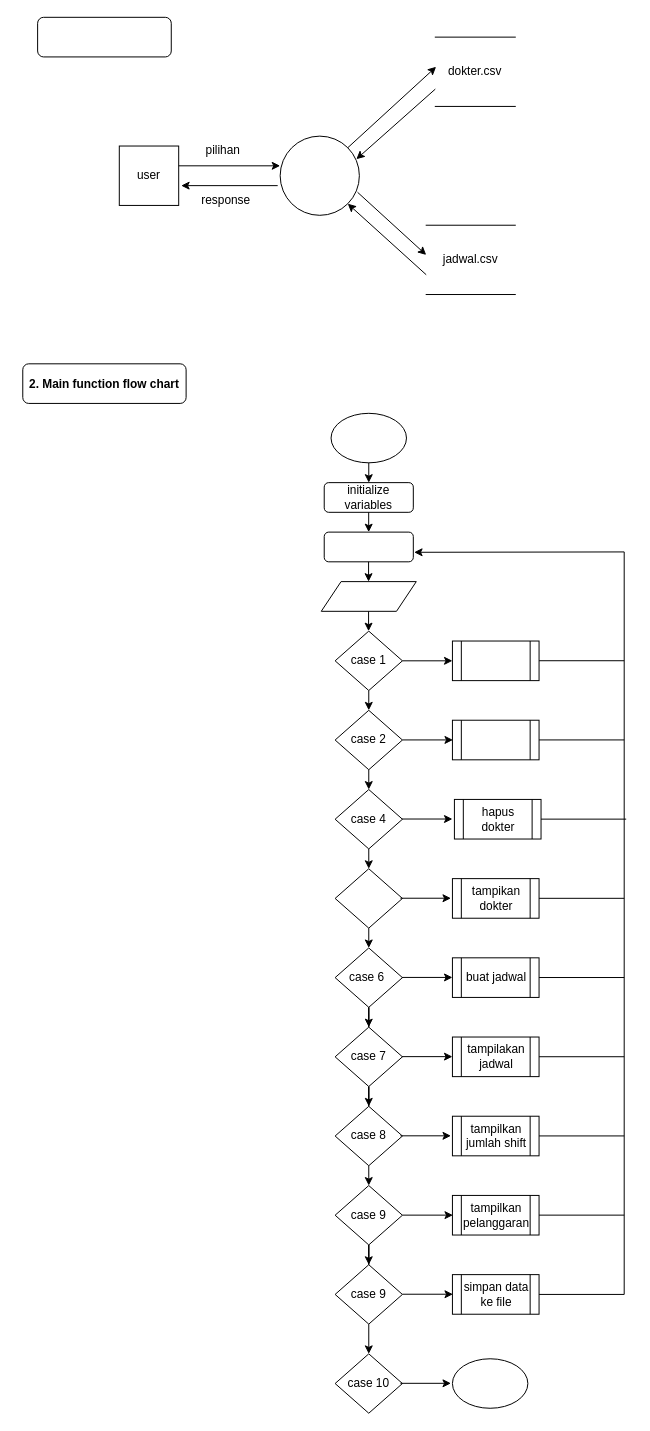
Some shapes in this 650 by 1431 pixel diagram are drawn without their labels. Each missing label, with the box of its shape:
1. Data Flow Diagram: (37, 16, 171, 57)
baca dokter dari file: (451, 640, 539, 681)
case 5: (334, 868, 402, 928)
display menu: (323, 531, 413, 562)
input pilihan: (320, 581, 416, 611)
P1: Main: (279, 135, 359, 215)
start: (330, 412, 406, 463)
stop: (451, 1358, 528, 1408)
tambah dokter: (451, 719, 539, 760)
